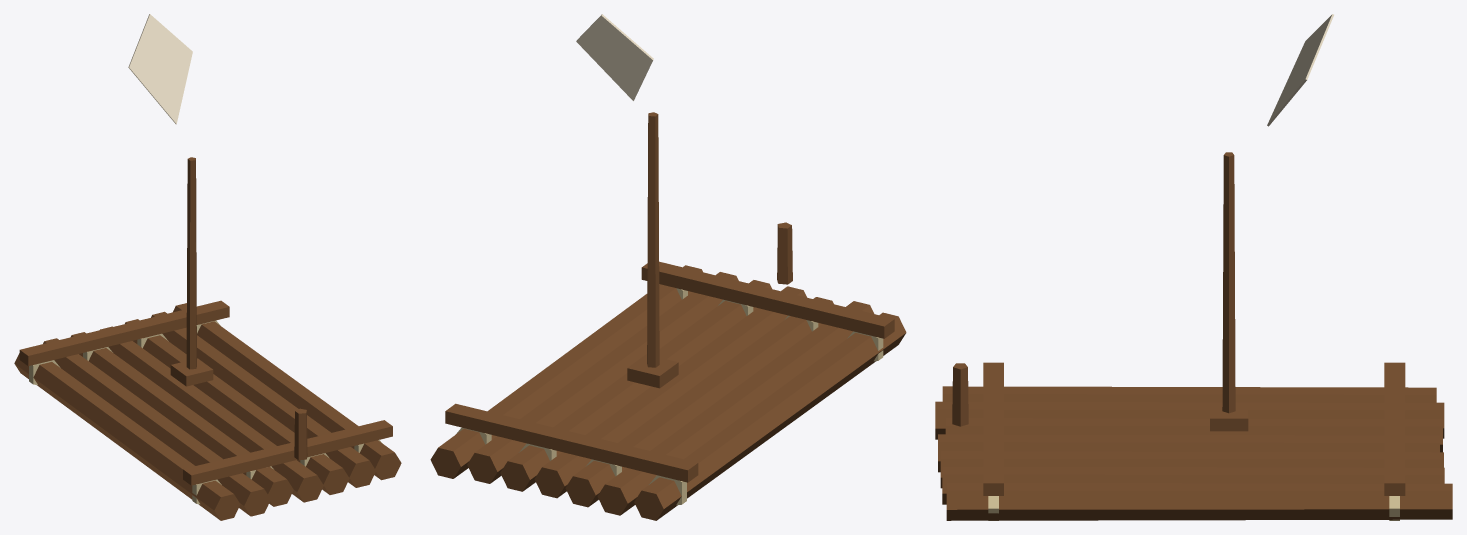
Rendered from Prop_Sky_Raft_LOD1.glb.
3 views of the same model, side by side, from view 1: azimuth 30°, elevation 25°; view 2: azimuth 150°, elevation 25°; view 3: azimuth 270°, elevation 25° (orthographic). The views are drawn at different scales.
Visible parts, largest first — view 1: Prop_Sky_Raft; view 2: Prop_Sky_Raft; view 3: Prop_Sky_Raft.
Part boxes in pixels (x1,y1,x2,y2): Prop_Sky_Raft: (14, 14, 401, 520); Prop_Sky_Raft: (430, 14, 906, 520); Prop_Sky_Raft: (935, 14, 1452, 520).
Size of the model in its own units: 1.64 by 2.88 by 2.97.
